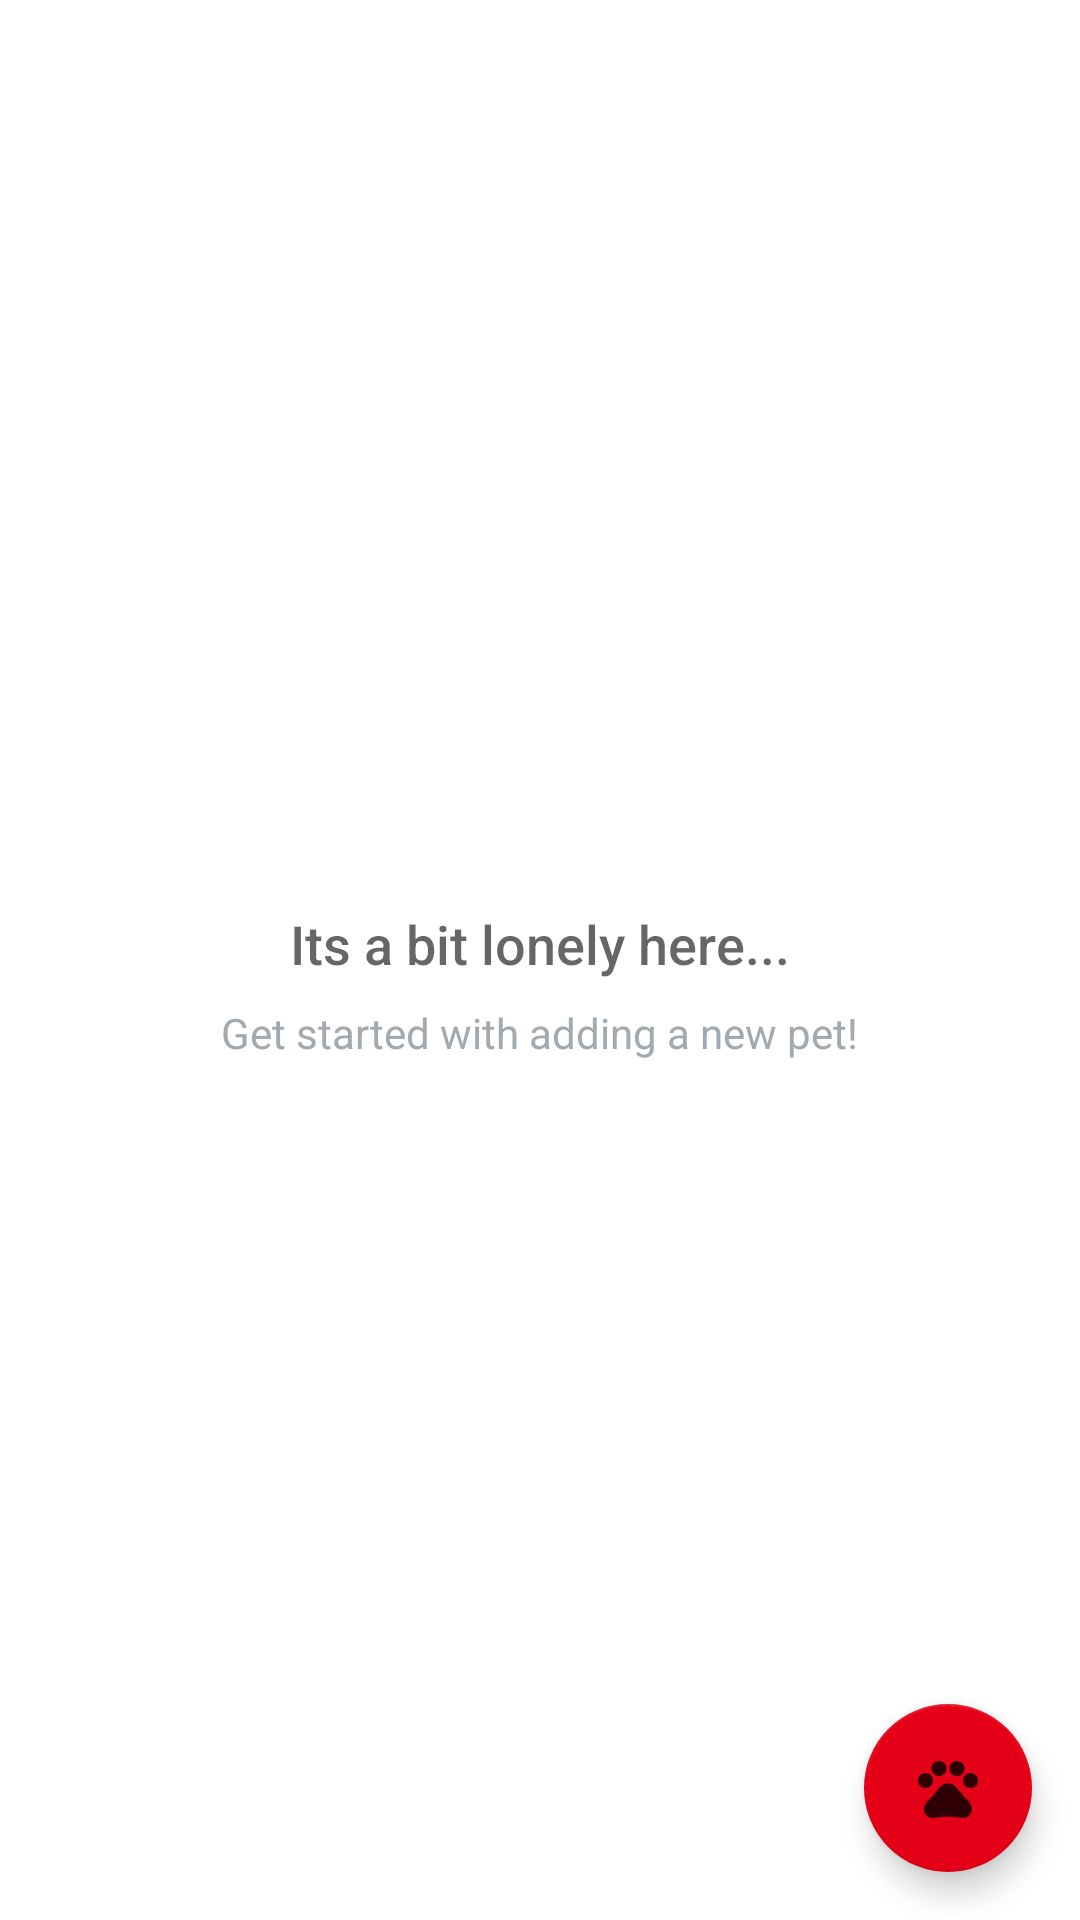

Named icons in this screenshot (1080 x 1920) and their bounding boxes, {"x1": x1, "y1": y1, "x2": x2, "y2": y2}:
paw: {"x1": 864, "y1": 1704, "x2": 1032, "y2": 1872}
